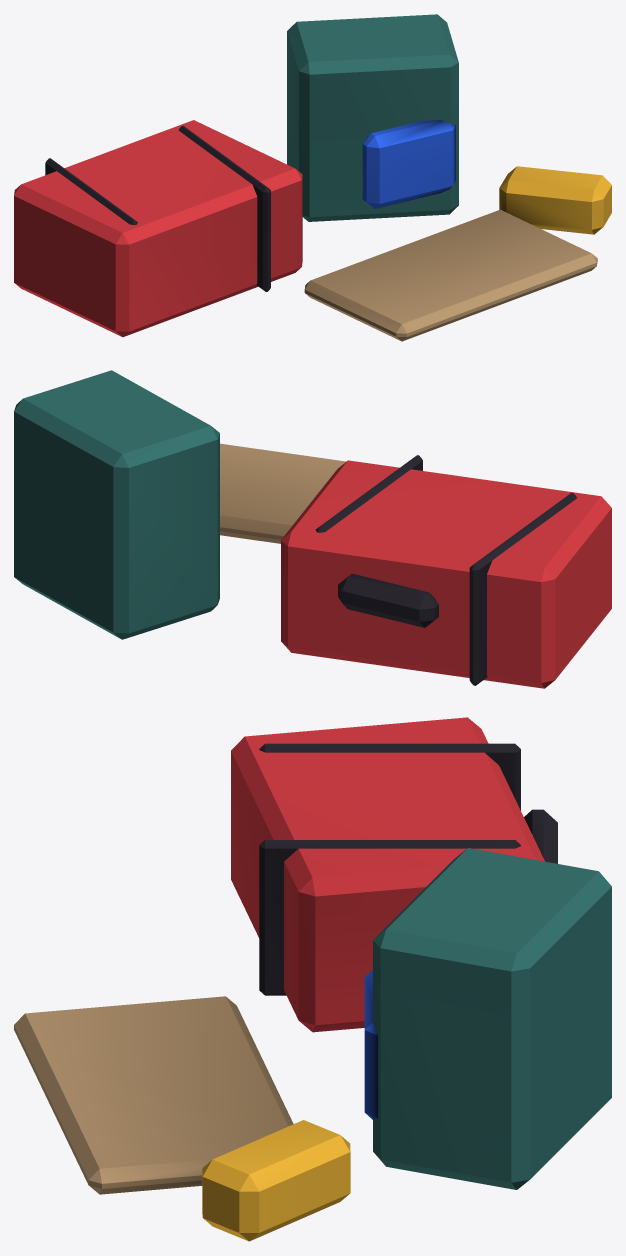
The model's file is decay.dropped-belongings.glb.
3 renders of one model, top to bottom at view 1: azimuth 30°, elevation 25°; view 2: azimuth 150°, elevation 25°; view 3: azimuth 270°, elevation 25°, orthographic. The views are drawn at different scales.
Parts seen in each view (by area): view 1: body; view 2: body; view 3: body.
Boxes of the visible parts, box(x1,y1,x2,y2) form: body: box(14, 14, 611, 341); body: box(14, 370, 611, 688); body: box(14, 717, 611, 1241).
Bounding box in the file's own units: 1.57 × 0.46 × 1.05.
